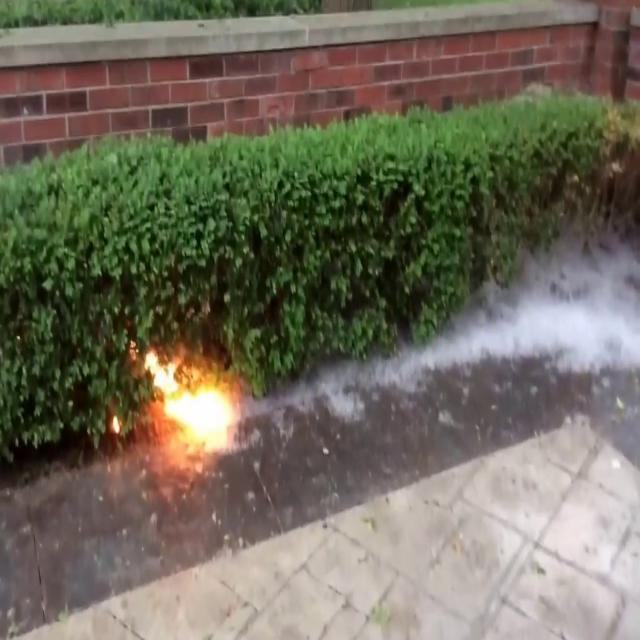Fire: (144, 344, 238, 454)
Smoke: (466, 151, 640, 401)
